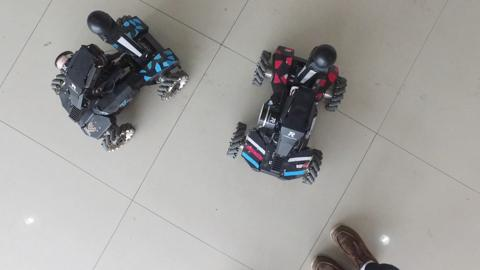chariot: (34, 4, 197, 159), (227, 35, 346, 193)
